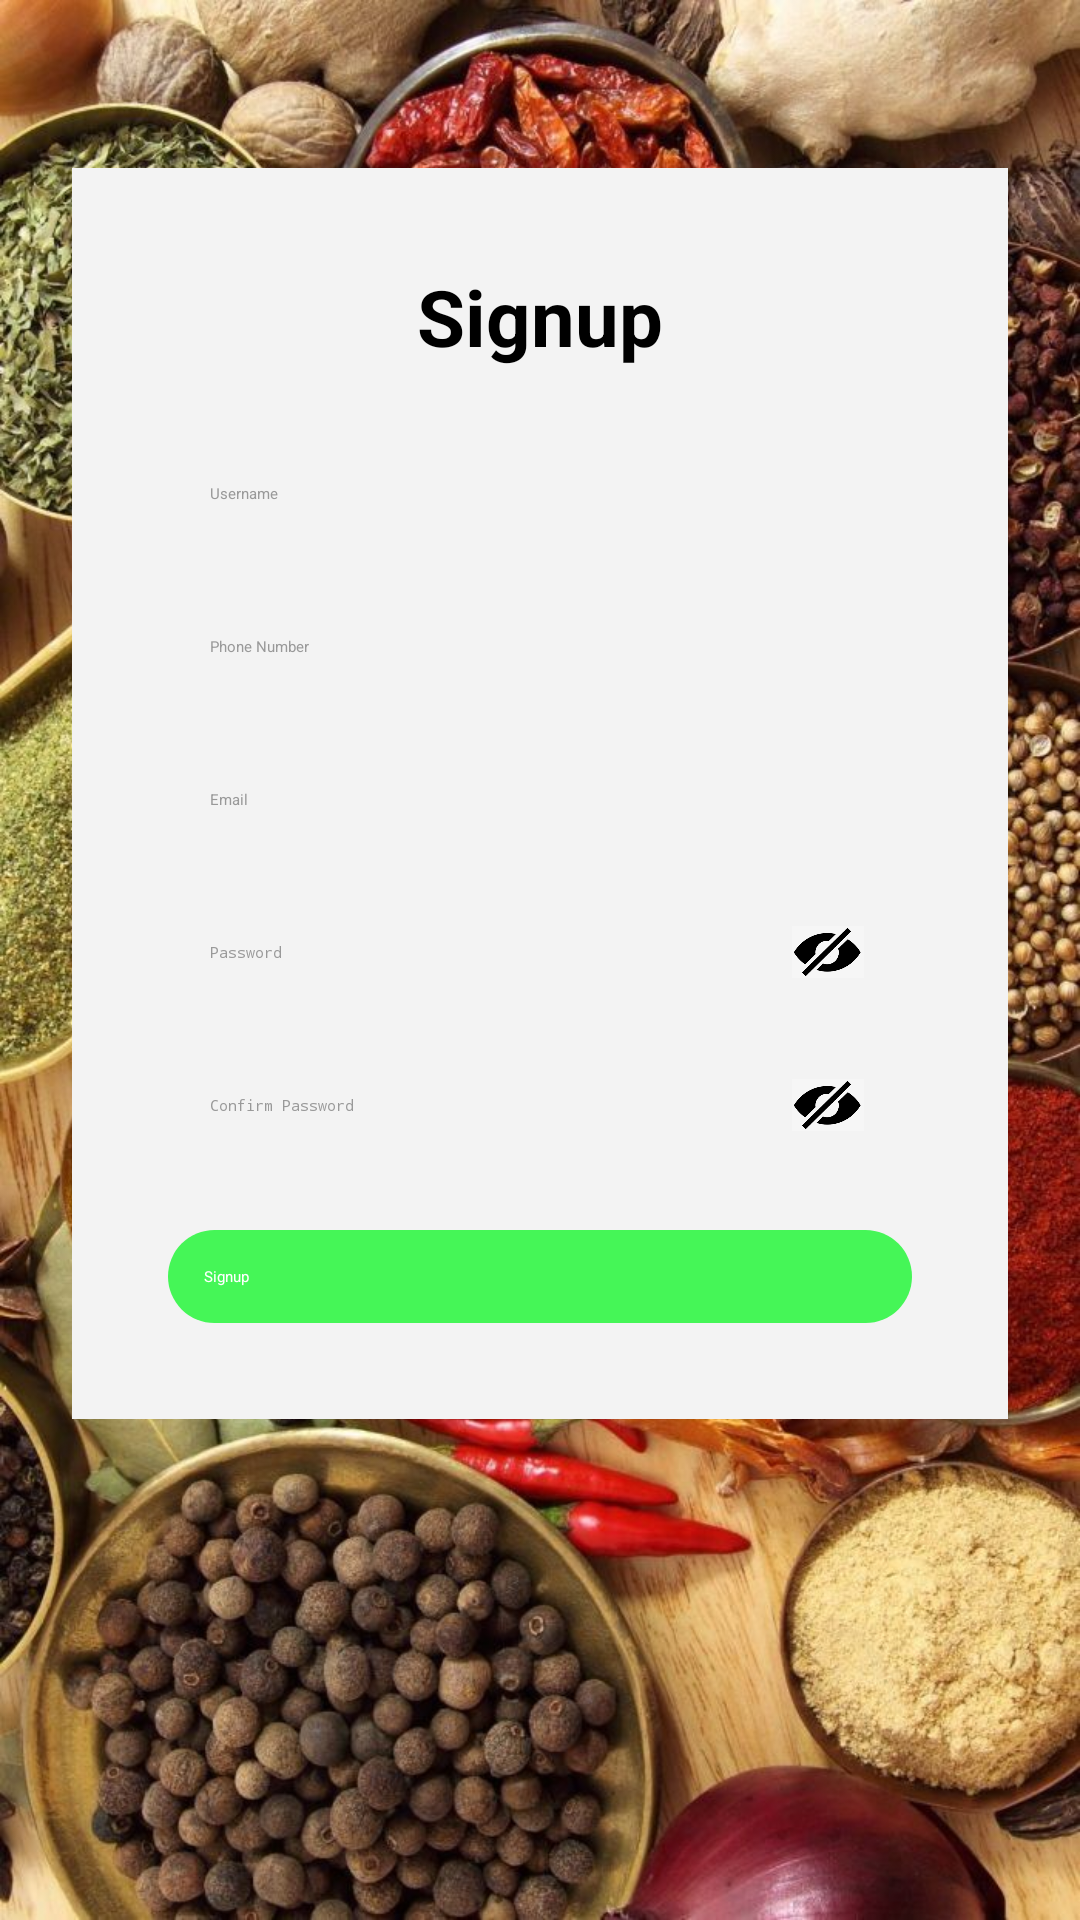

Icon click points for this 1080*1920 phone screenshot, format [x,y]:
eyen: [827,952], [827,1105]
